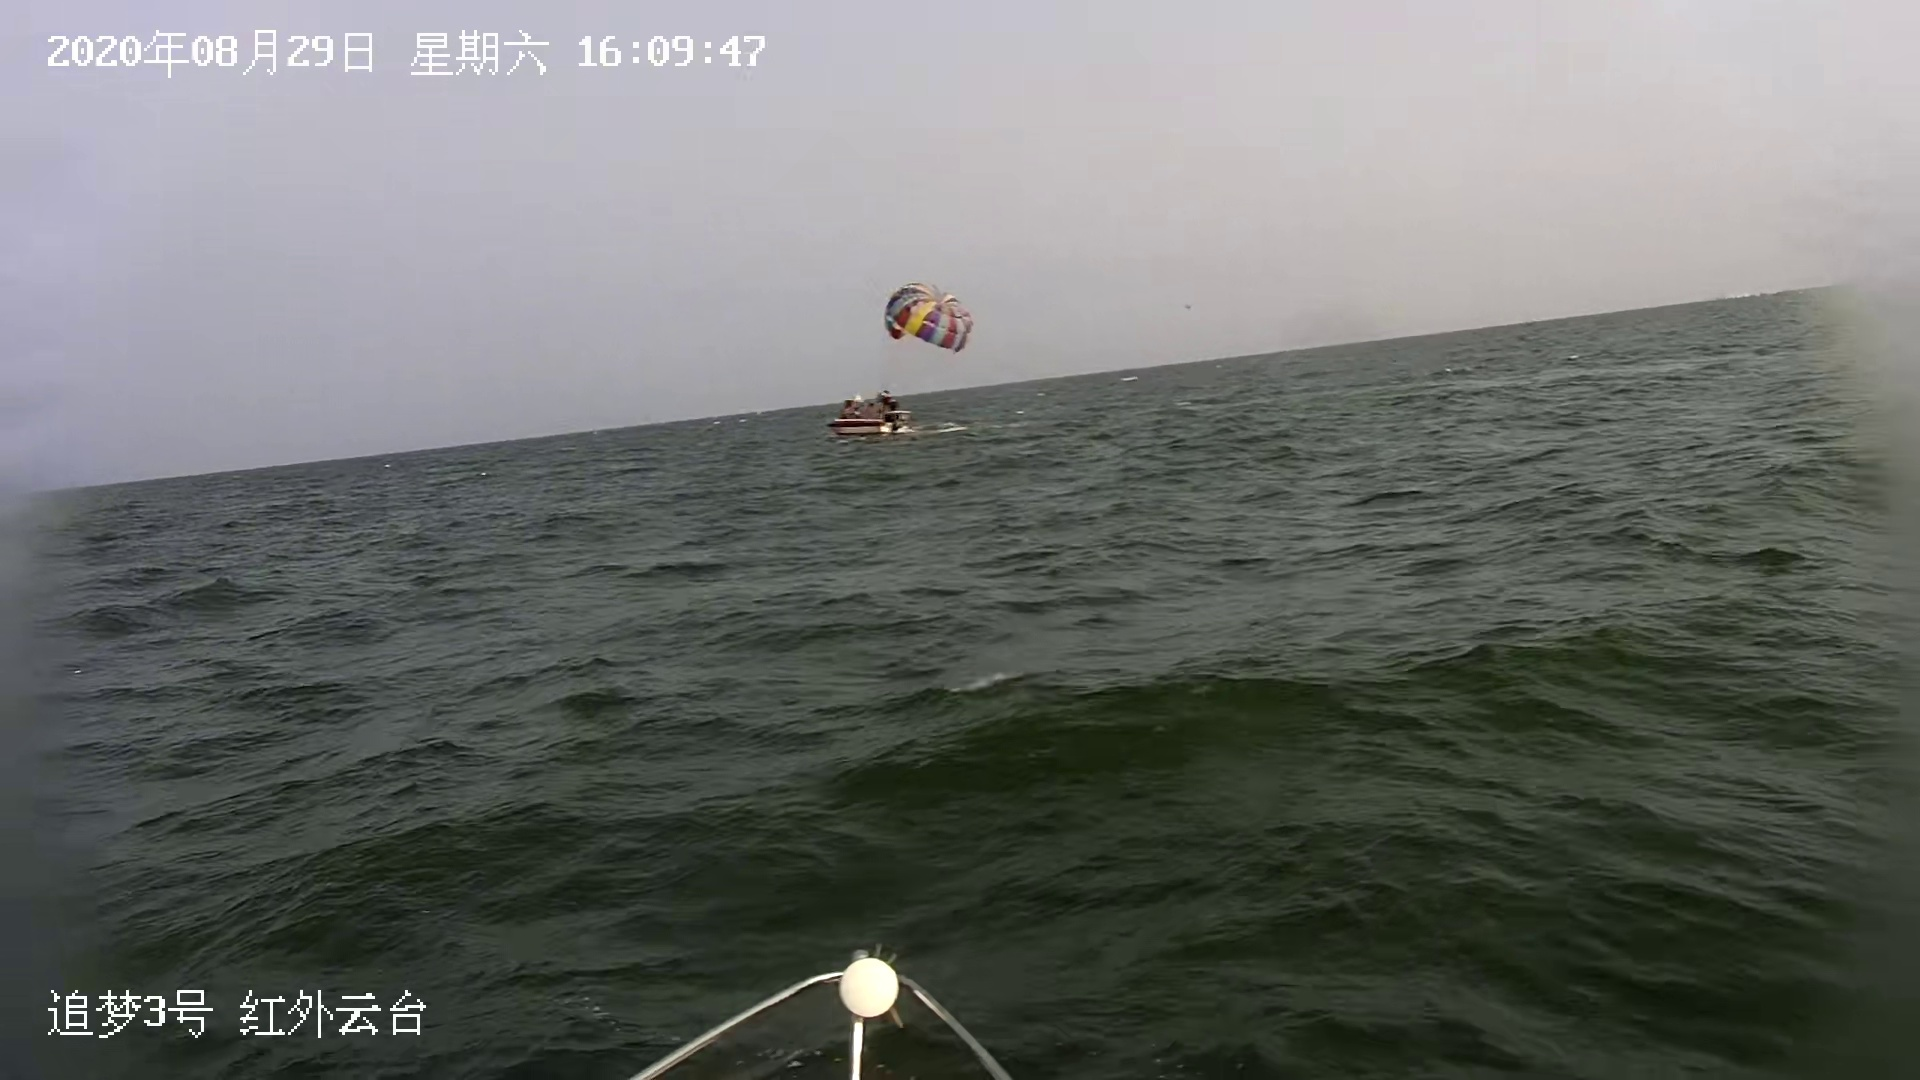barrier: (827, 396, 916, 438)
